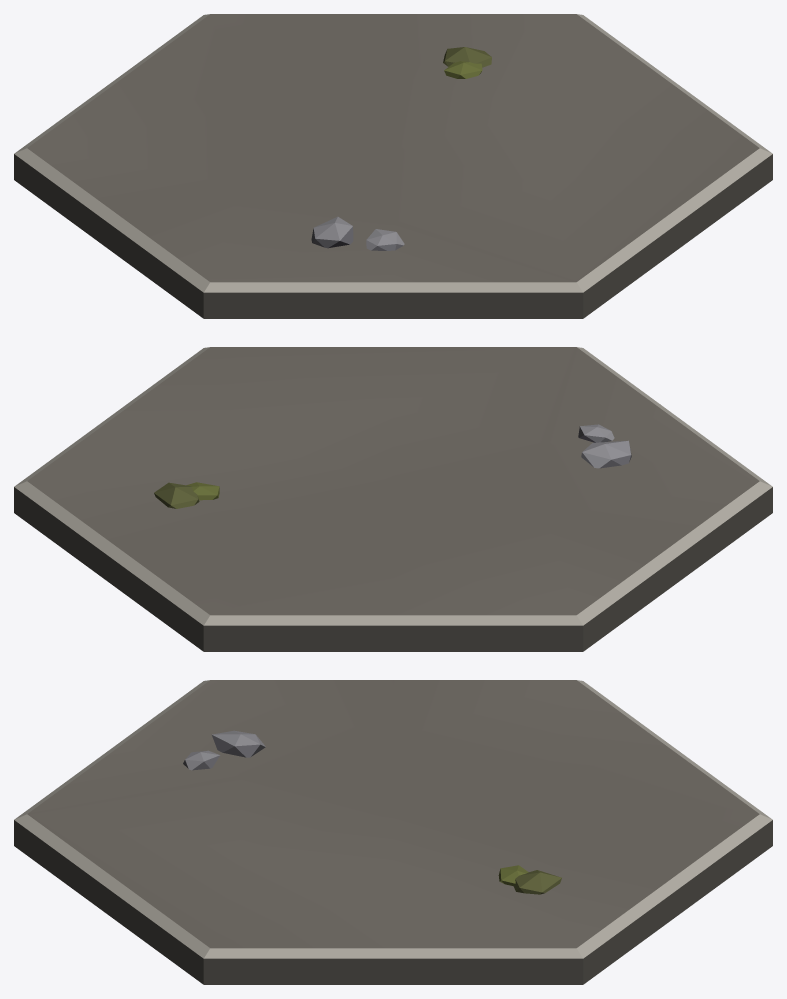
The model's file is Hex_Tile_Grave_C.fbx.
3 renders of one model, top to bottom at view 1: azimuth 30°, elevation 25°; view 2: azimuth 150°, elevation 25°; view 3: azimuth 270°, elevation 25°, orthographic.
Parts seen in each view (by area): view 1: Hex_Tile_Grave_C.001; view 2: Hex_Tile_Grave_C.001; view 3: Hex_Tile_Grave_C.001.
Part boxes in pixels (x1=…): Hex_Tile_Grave_C.001: x1=14, y1=14, x2=772, y2=318; Hex_Tile_Grave_C.001: x1=14, y1=347, x2=772, y2=651; Hex_Tile_Grave_C.001: x1=14, y1=680, x2=772, y2=984.
Size of the model in its own units: 1.97 by 0.1516 by 2.27.
